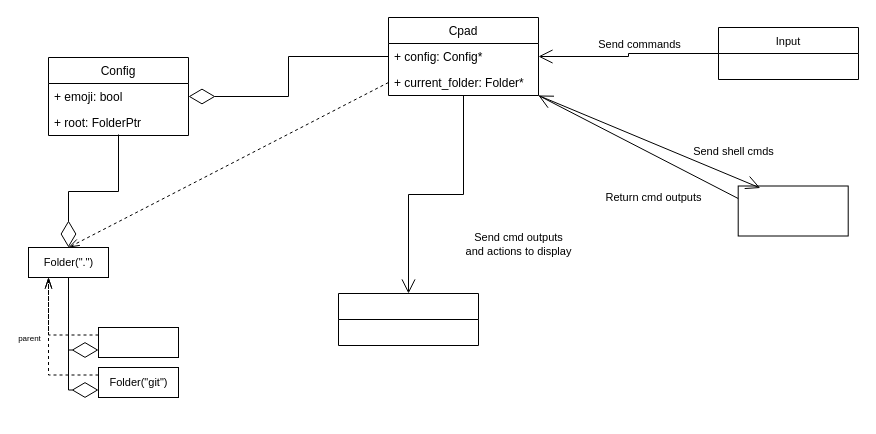
This 876x434 diagram has some shape labels left out. The centre of each missing label's shape, as x and y in pixels:
Cmd("ls -a"): (x=138, y=342)
Display: (x=408, y=319)
ShellRunner: (x=792, y=210)
